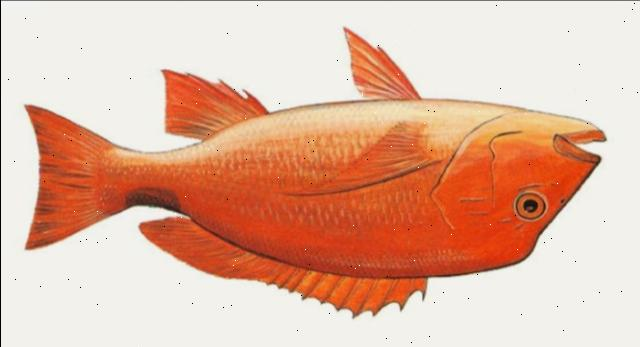Mulut: (557, 99, 617, 181)
Sirip Anal: (156, 62, 262, 148)
Sirip Dada: (274, 122, 432, 204)
Sirip Ekor: (14, 91, 98, 251)
Sirip Perut: (334, 22, 424, 106)
Sirip Punggung: (128, 210, 440, 326)
